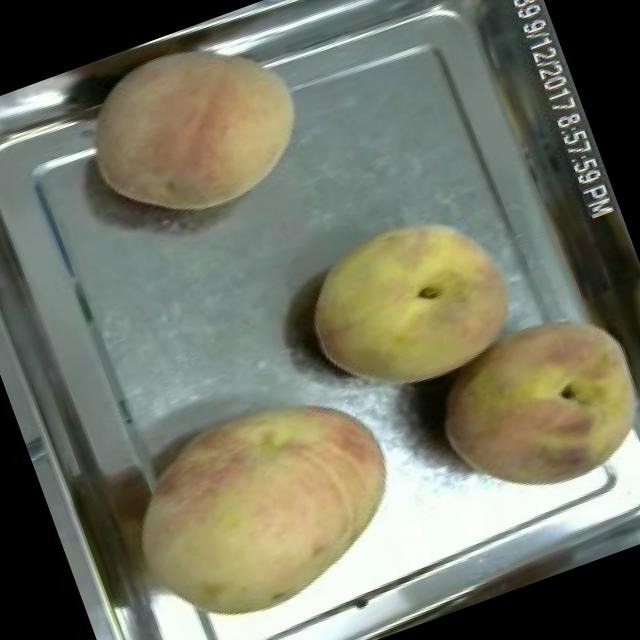Fruit: (98, 357, 432, 640), (56, 4, 331, 252), (277, 184, 542, 424), (409, 288, 640, 537)
